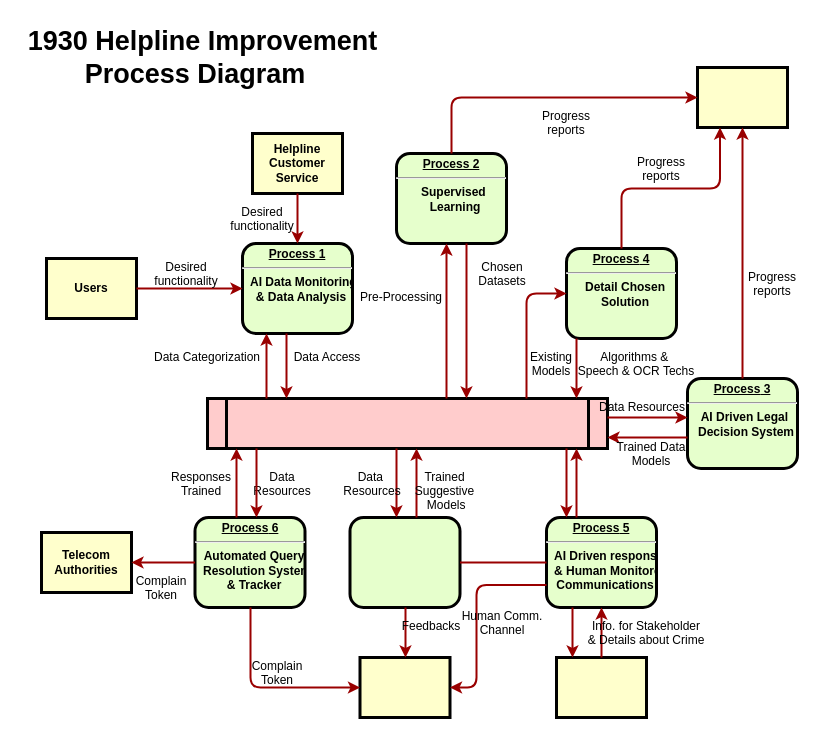
Some shapes in this 816 by 736 pixel diagram are drawn without their labels. The shapes that lost their labels are listed below. From the top down, each one's centre as x and y in pixels, then its label:
At [742,97]: "Cyber Police Auhtorities".
At [407,423]: "Datasets".
At [404,562]: "Process 7 Suggestion & Feedbacks Based on AI".
At [404,687]: "Banking Partners".
At [601,687]: "Third Party Application Providers".
